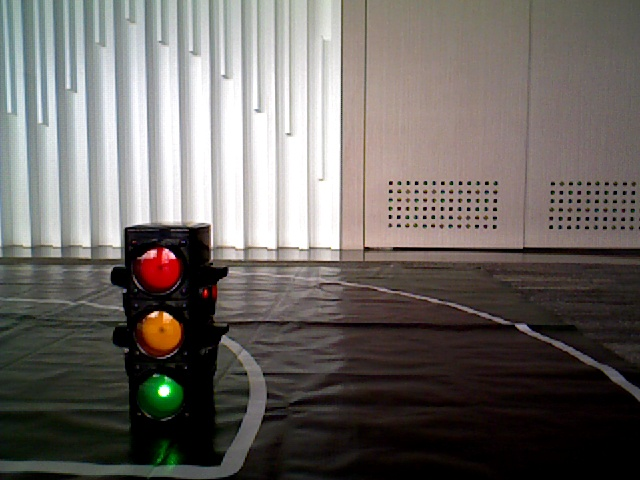green: (130, 231, 205, 429)
